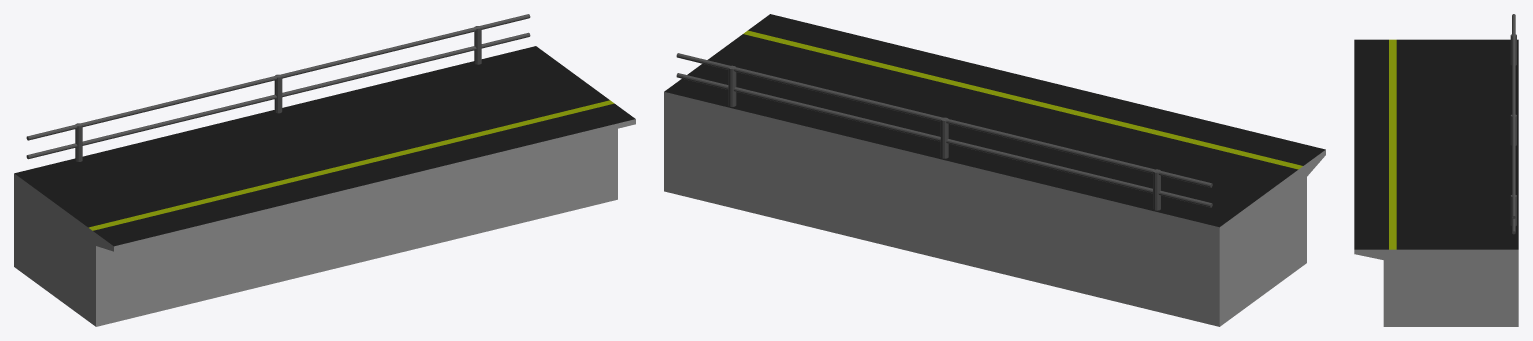
Rendered from platform.obj.
The picture shows the model from 3 angles, left to right: view 1: azimuth 30°, elevation 25°; view 2: azimuth 150°, elevation 25°; view 3: azimuth 270°, elevation 25°; orthographic projection. The views are drawn at different scales.
Visible parts, largest first — view 1: Cube_Cube.001, Cylinder.001; view 2: Cube_Cube.001, Cylinder.001; view 3: Cube_Cube.001, Cylinder.001.
Part boxes in pixels (box(x1,y1,x2,y2)): Cube_Cube.001: box(14, 46, 635, 326); Cylinder.001: box(26, 14, 530, 161); Cube_Cube.001: box(664, 14, 1325, 326); Cylinder.001: box(676, 53, 1212, 210); Cube_Cube.001: box(1354, 39, 1518, 326); Cylinder.001: box(1510, 14, 1516, 234).
Bounding box in the file's own units: 10.5 × 2.5 × 3.48.
